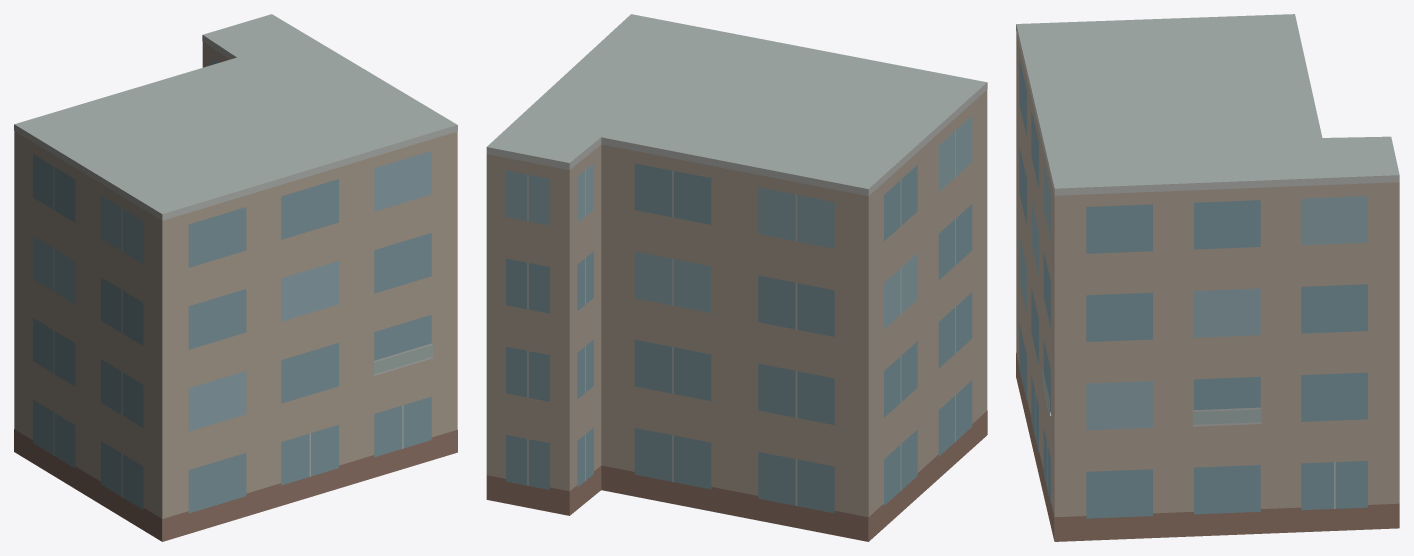
The model's file is survey-upis-32659575.glb.
3 renders of one model, left to right at view 1: azimuth 30°, elevation 25°; view 2: azimuth 150°, elevation 25°; view 3: azimuth 270°, elevation 25°, orthographic. The views are drawn at different scales.
Parts seen in each view (by area): view 1: survey-upis-32659575.tmp; view 2: survey-upis-32659575.tmp; view 3: survey-upis-32659575.tmp.
Boxes of the visible parts, box(x1,y1,x2,y2) form: survey-upis-32659575.tmp: box(14, 14, 457, 541); survey-upis-32659575.tmp: box(486, 14, 987, 541); survey-upis-32659575.tmp: box(1016, 14, 1399, 541).
Size of the model in its own units: 12.95 by 12.2 by 12.02.
